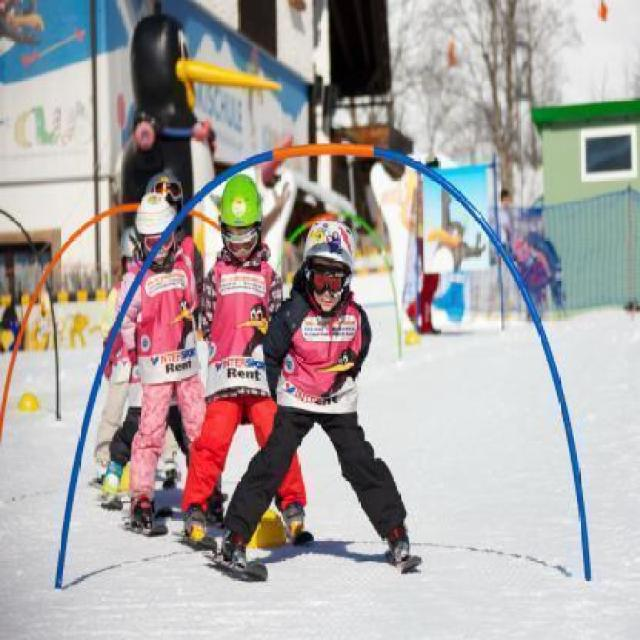glasses: (302, 262, 348, 300), (218, 233, 265, 259), (138, 235, 179, 256)
head_helmet: (296, 214, 359, 268), (217, 174, 266, 232), (133, 187, 181, 238)
person: (214, 225, 414, 578), (198, 176, 312, 549), (119, 181, 199, 550)
